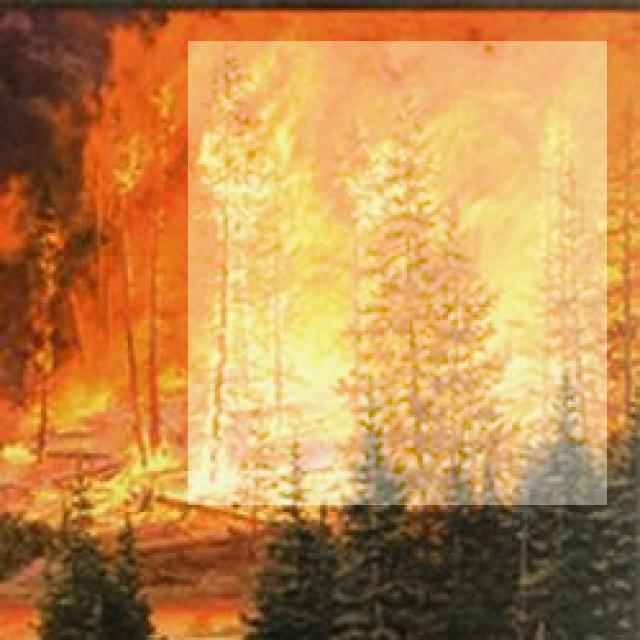Fire: (188, 41, 607, 505)
